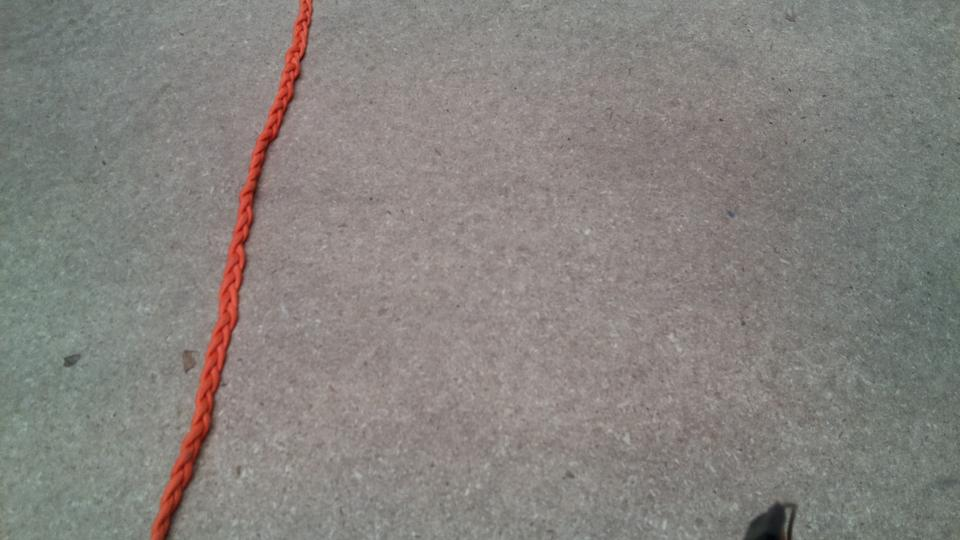rope: (144, 1, 318, 540)
